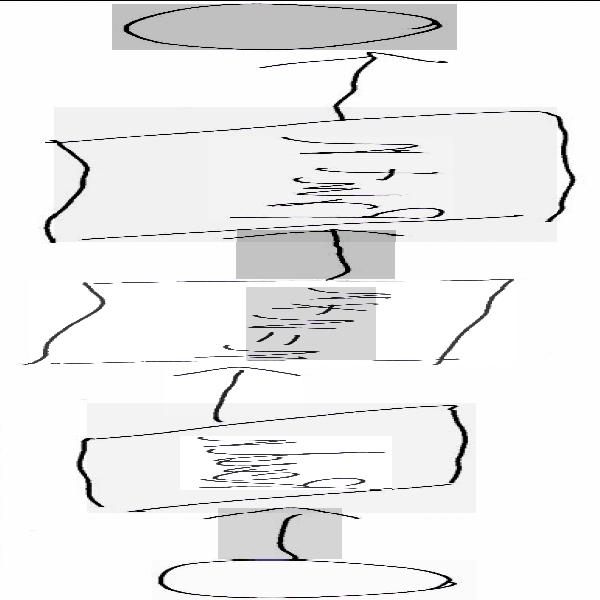arrow: (258, 51, 404, 113), (236, 229, 395, 280), (164, 365, 302, 415), (218, 506, 342, 558)
data: (54, 106, 557, 240), (87, 402, 475, 512)
process: (29, 278, 516, 364)
terminator: (112, 3, 457, 49), (152, 558, 476, 598)
text: (208, 136, 454, 219), (180, 435, 392, 489), (246, 286, 376, 359)
